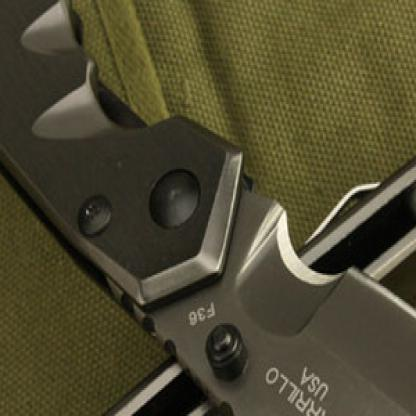knife: (184, 223, 414, 414)
